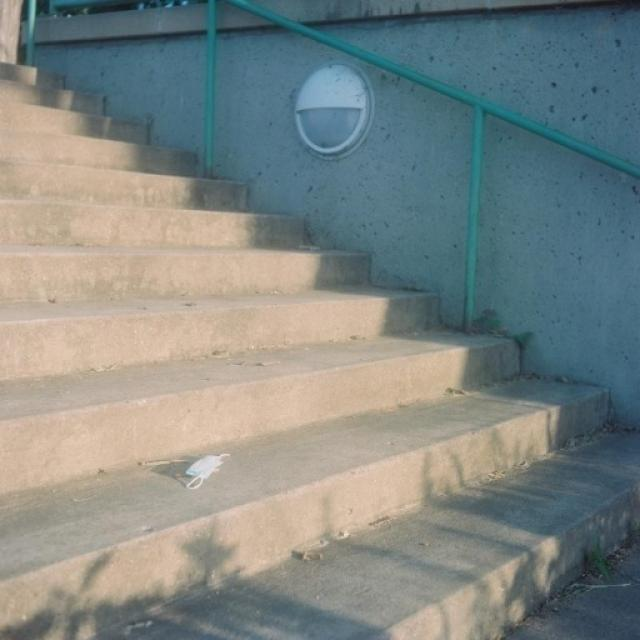stair: (0, 64, 639, 639)
